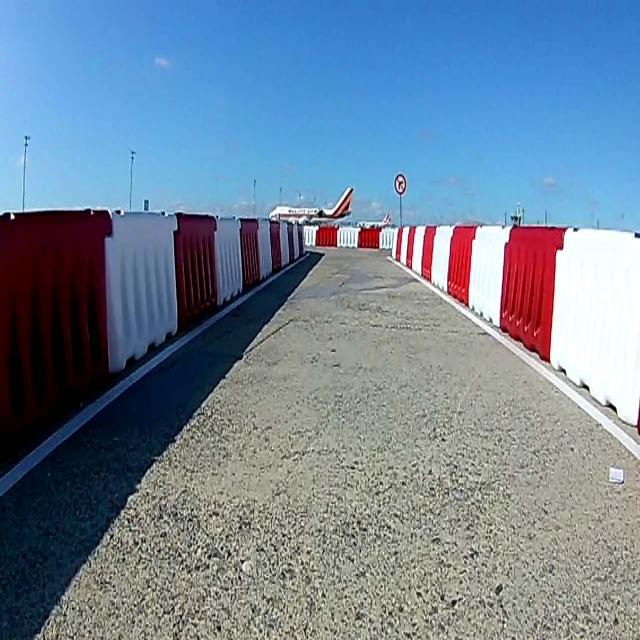sagadonulmez: (394, 172, 406, 196)
